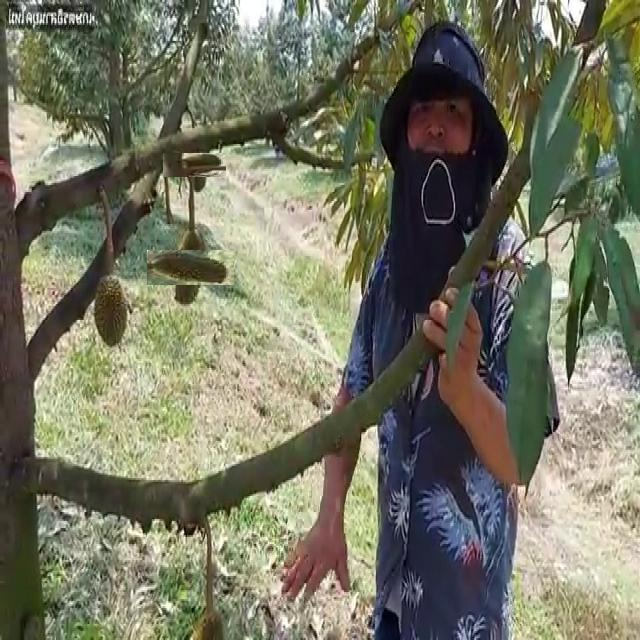durian: (160, 237, 221, 298), (92, 270, 132, 350), (173, 143, 217, 187)
